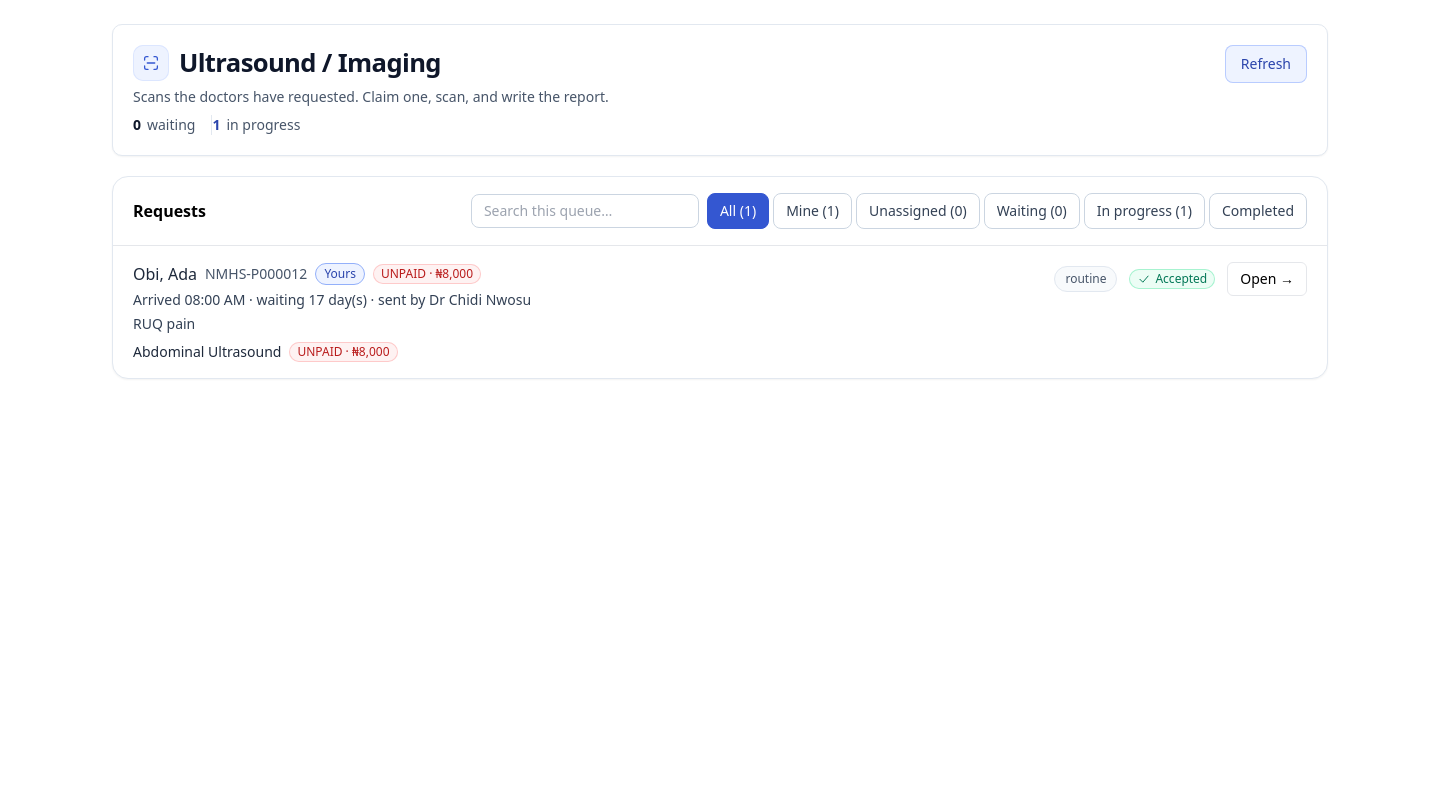
Scenario: the worklist says where the money stands › shows PAYMENT REQUIRED on the request itself, and never hides the work
Click the button "Open →" at [1267, 279], box [1227,262,1307,296]
(page scrolled)
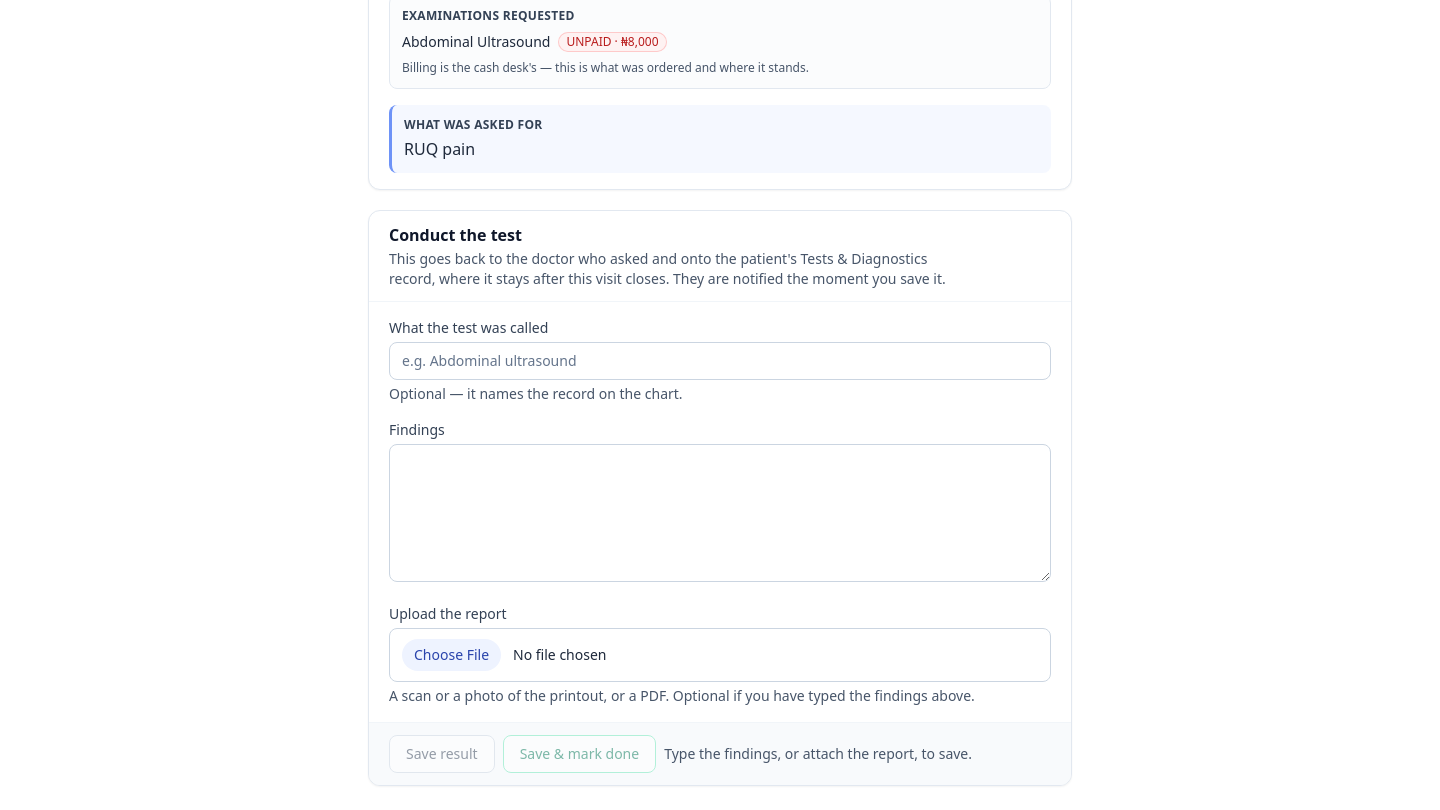
Type "Normal study." into the text box labelled "Findings" at [720, 513], box [389,444,1051,582]
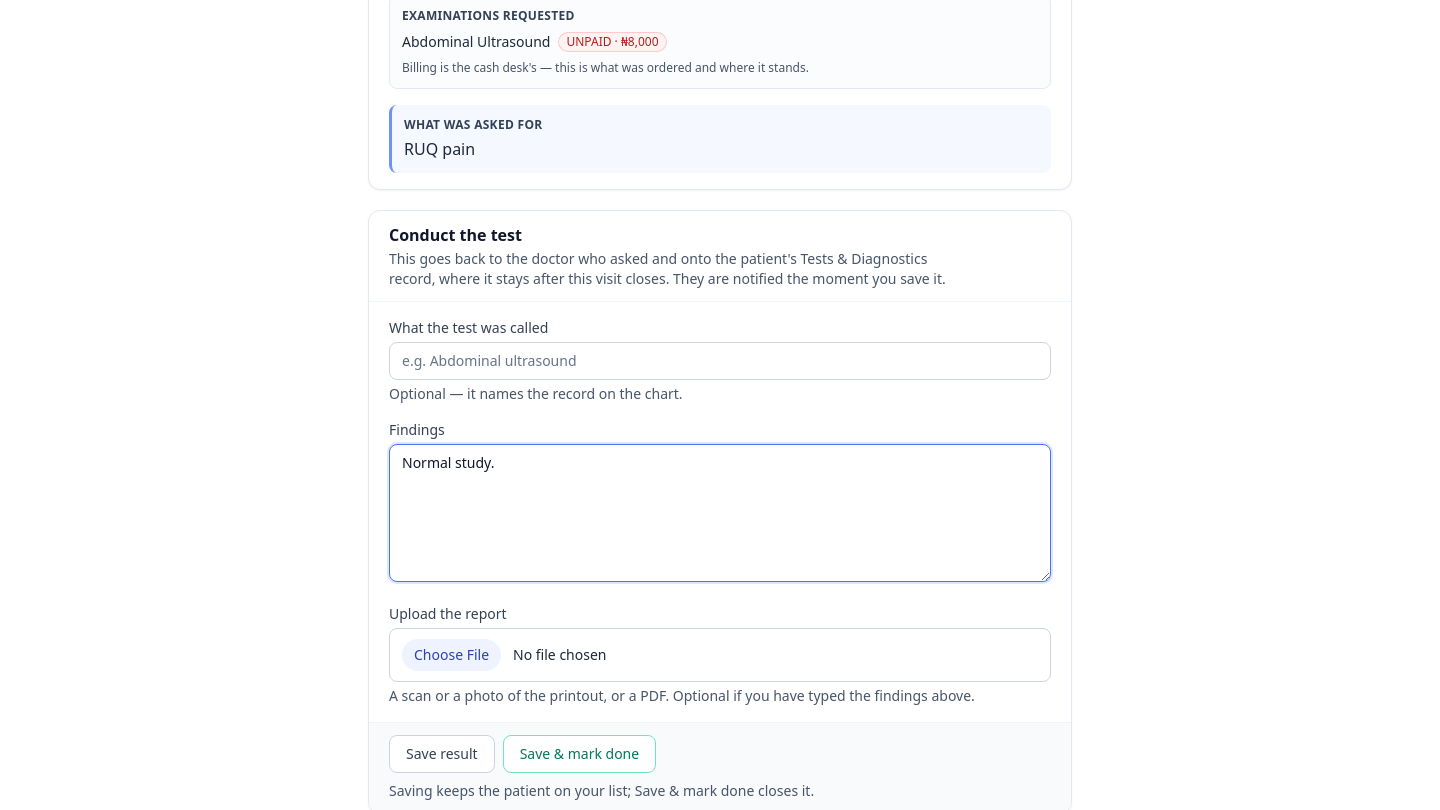
Result: the button "Save & mark done" is enabled at [503,735,656,773]
